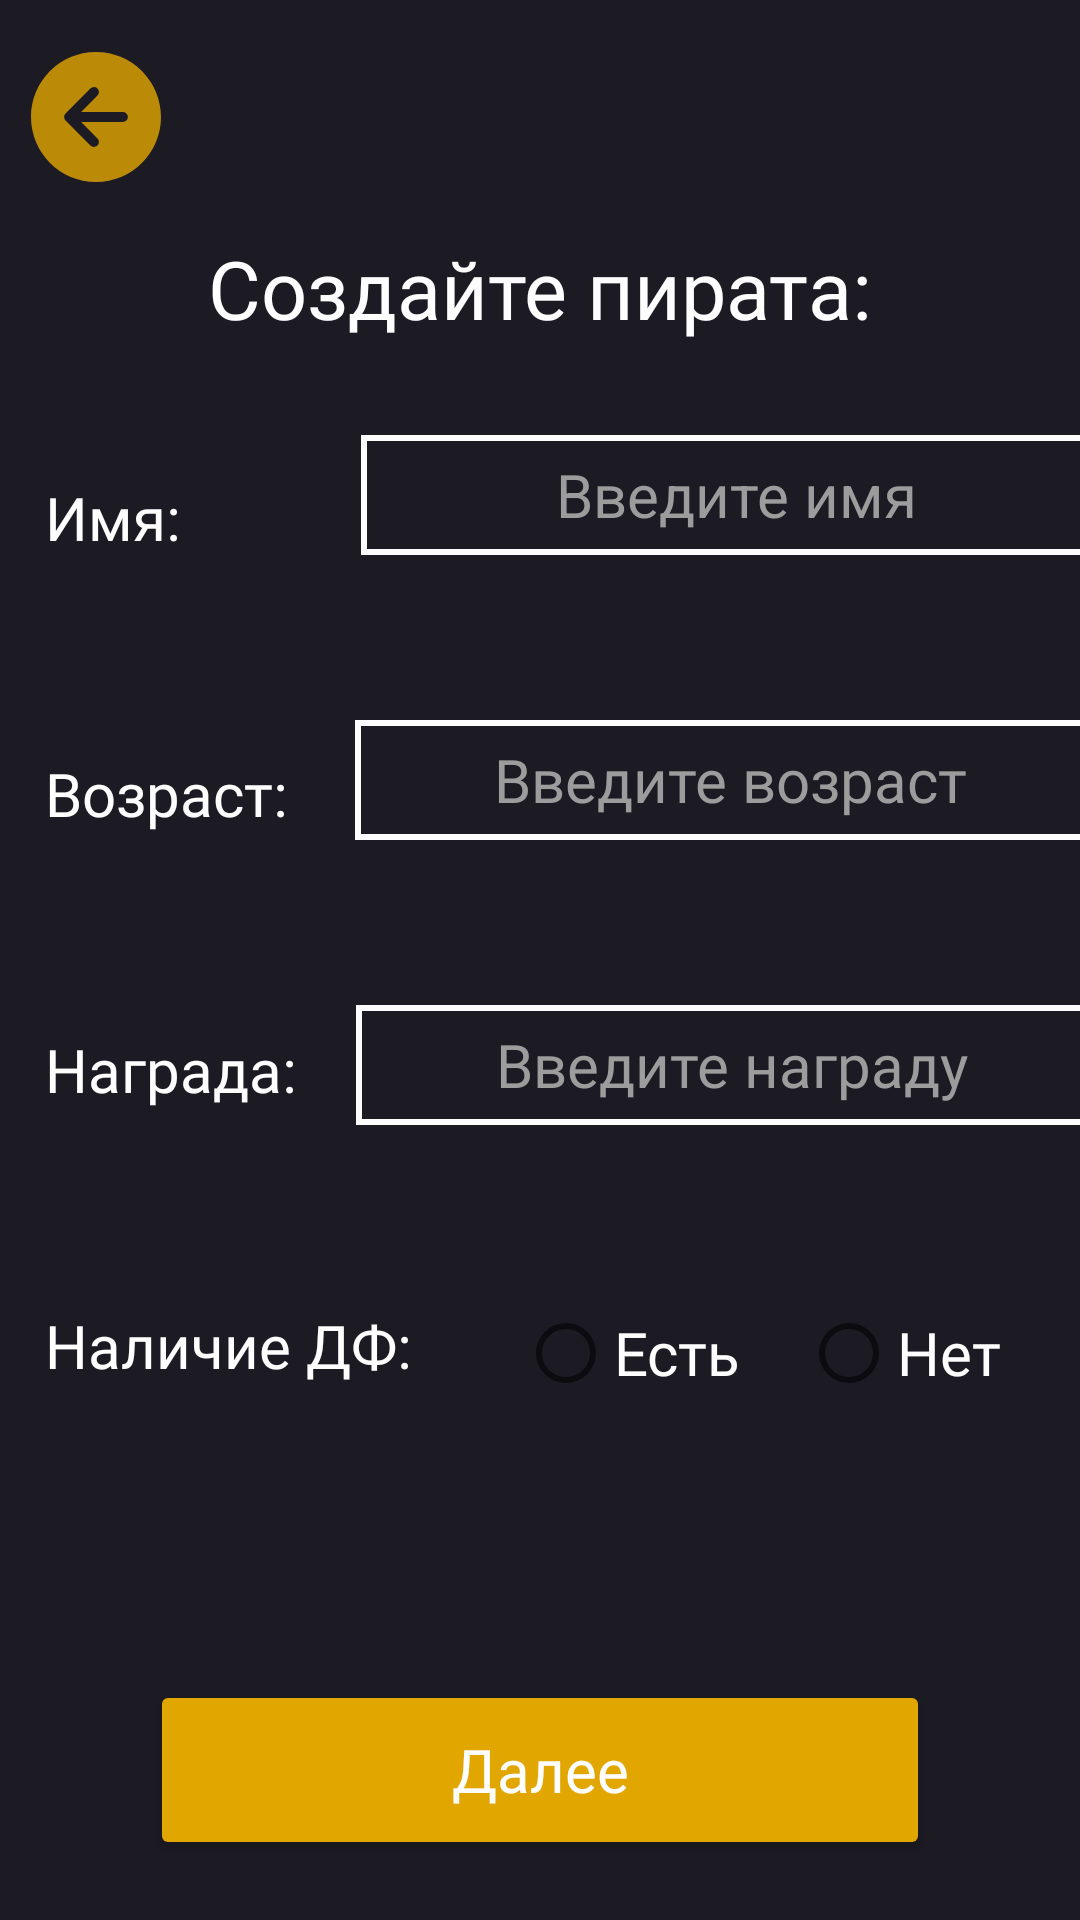

Named icons in this screenshot (1080w x 1920h) and their bounding boxes, detection(x1, y1, x2, y2):
Вернуться на предыдущий экран: detection(31, 52, 161, 182)
